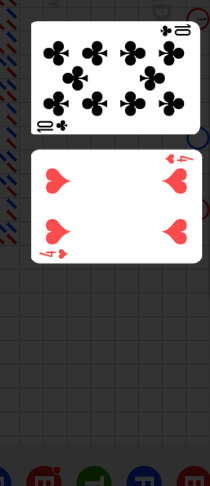10C: (36, 117, 70, 132)
4H: (38, 246, 70, 260)
